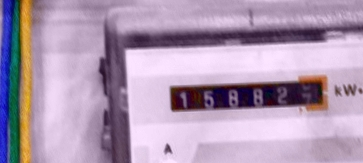1: (177, 89, 189, 109)
2: (276, 85, 288, 105)
5: (202, 89, 214, 109)
7: (301, 92, 312, 106)
8: (227, 87, 239, 109), (252, 87, 264, 108)
screen: (161, 70, 337, 120)
